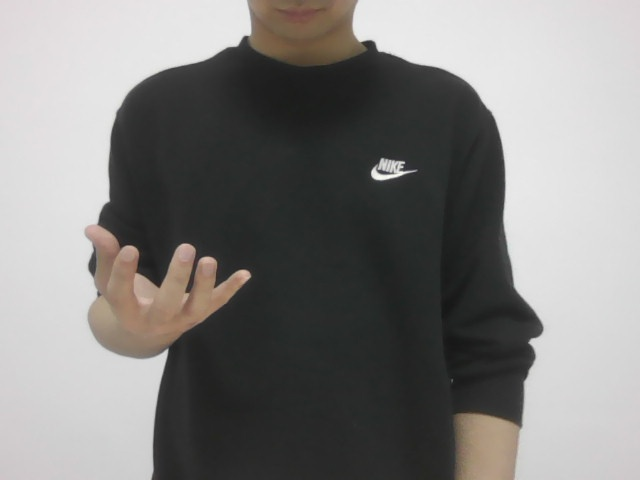flavor: (73, 213, 249, 344)
